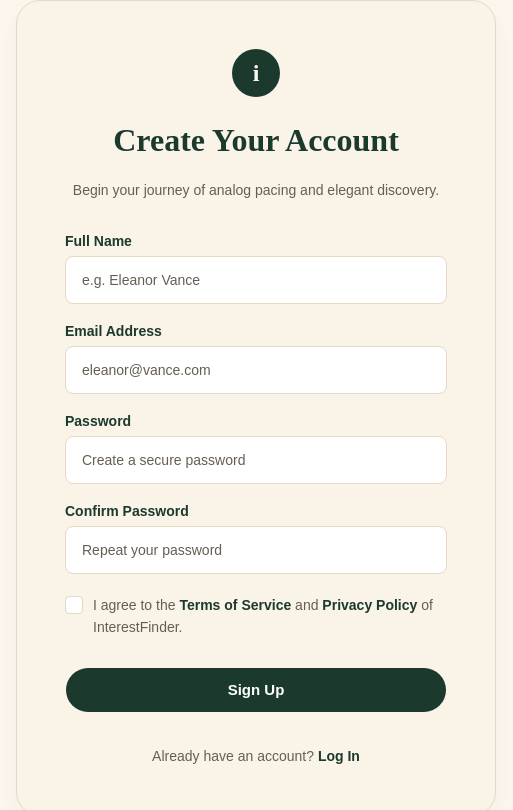
Scenario: registration form › handles offline registration while keeping passwords hidden
The width and height of the screenshot is (513, 810).
Type "Reader Name" into the field labelled "Full Name". click: (256, 280)
box: [65, 256, 447, 304]
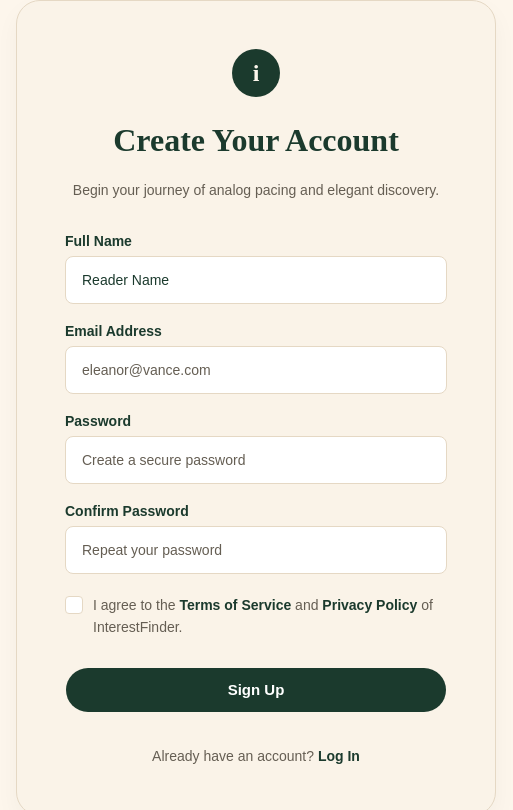
Type "reader@example.com" into the field labelled "Email Address". click: (256, 370)
box: [65, 346, 447, 394]
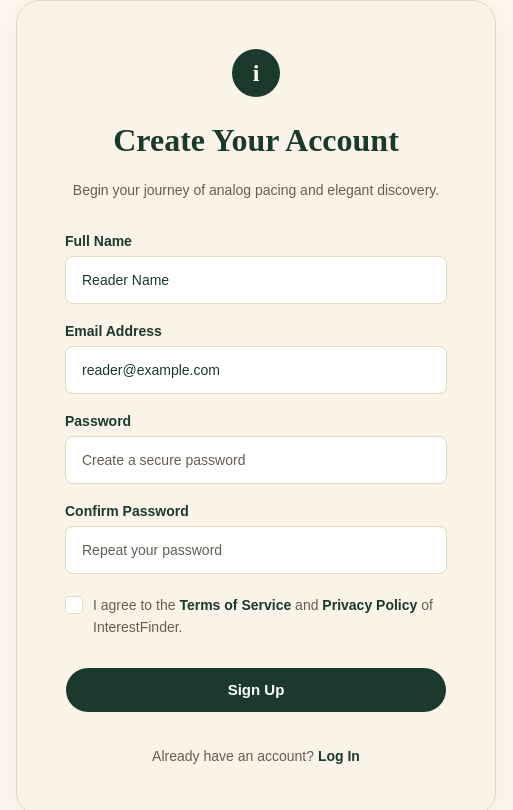
Type "valid-password" into the password field labelled "Password". click: (256, 460)
box: [65, 436, 447, 484]
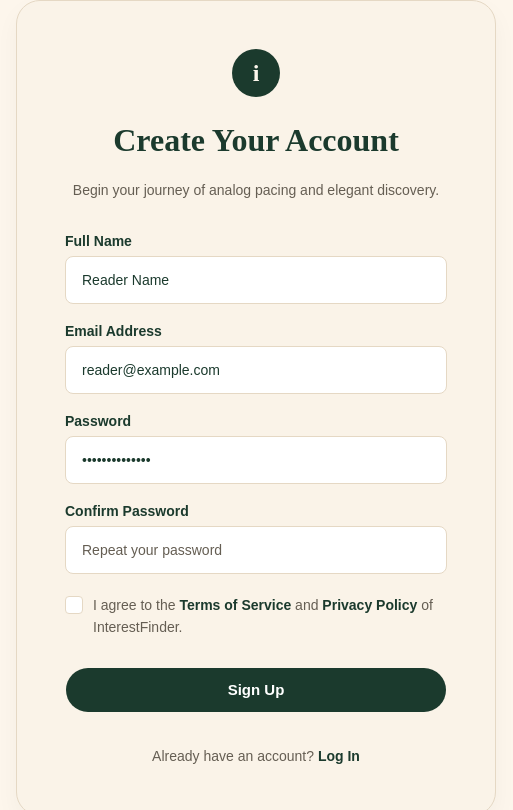
Type "valid-password" into the password field labelled "Confirm Password". click: (256, 550)
box: [65, 526, 447, 574]
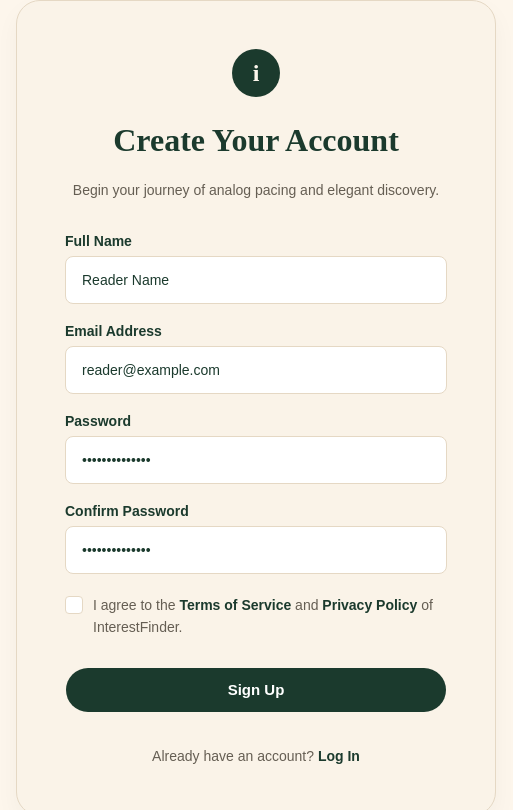
Click the checkbox named "I agree". click: (74, 605)
box: [65, 596, 83, 614]
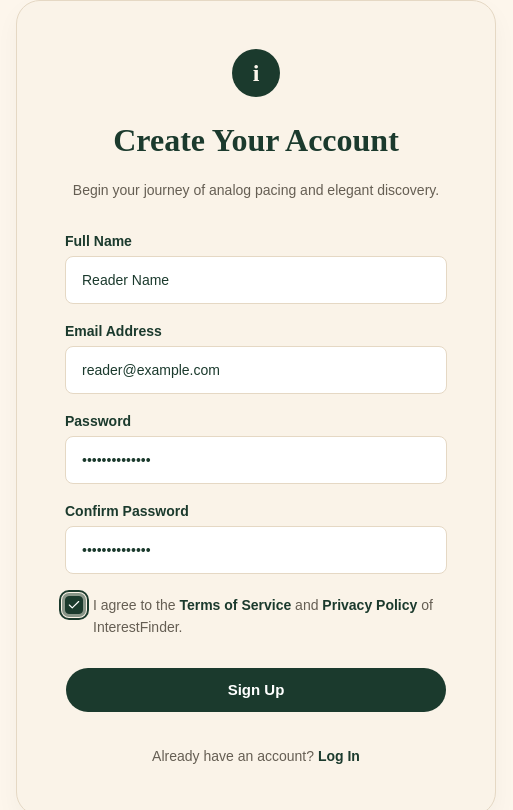
Click the button "Sign Up". click: (256, 690)
box: [65, 667, 447, 713]
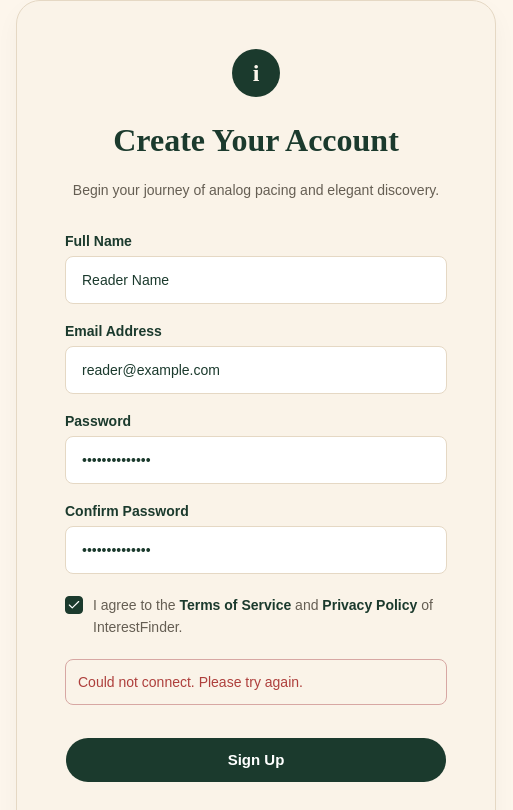
Expected: the message shows "Could not connect", [78, 674, 303, 690]
